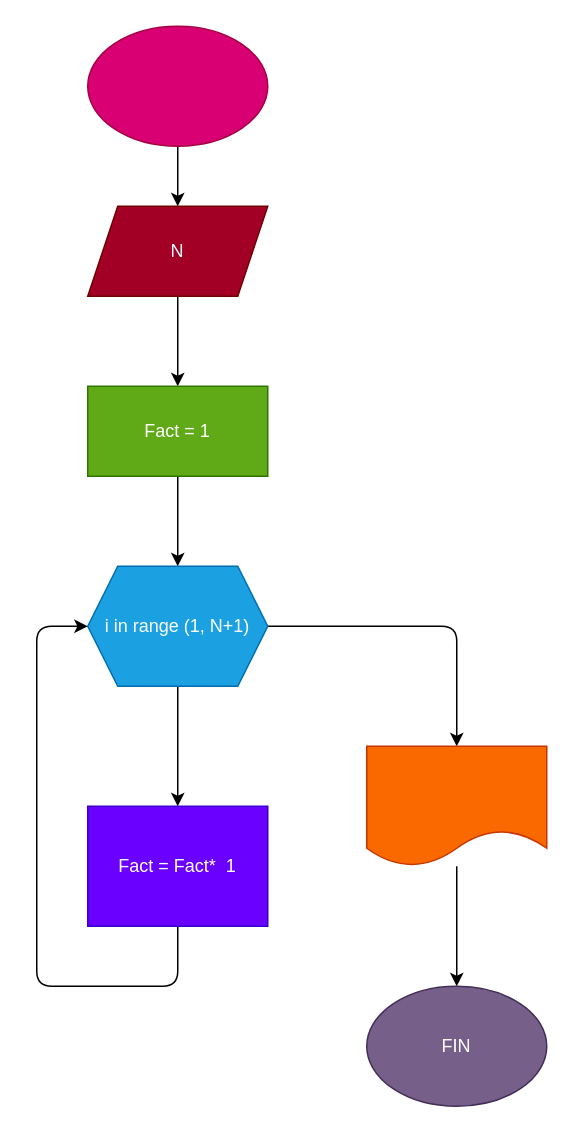
This 573x1133 diagram has some shape labels left out. The shapes that lost their labels are listed below. From the top down, each one's centre as x and y in pixels, then its label:
At pixel 177 85: "INICIO".
At pixel 456 805: "El Factorial de N es igual a:".
